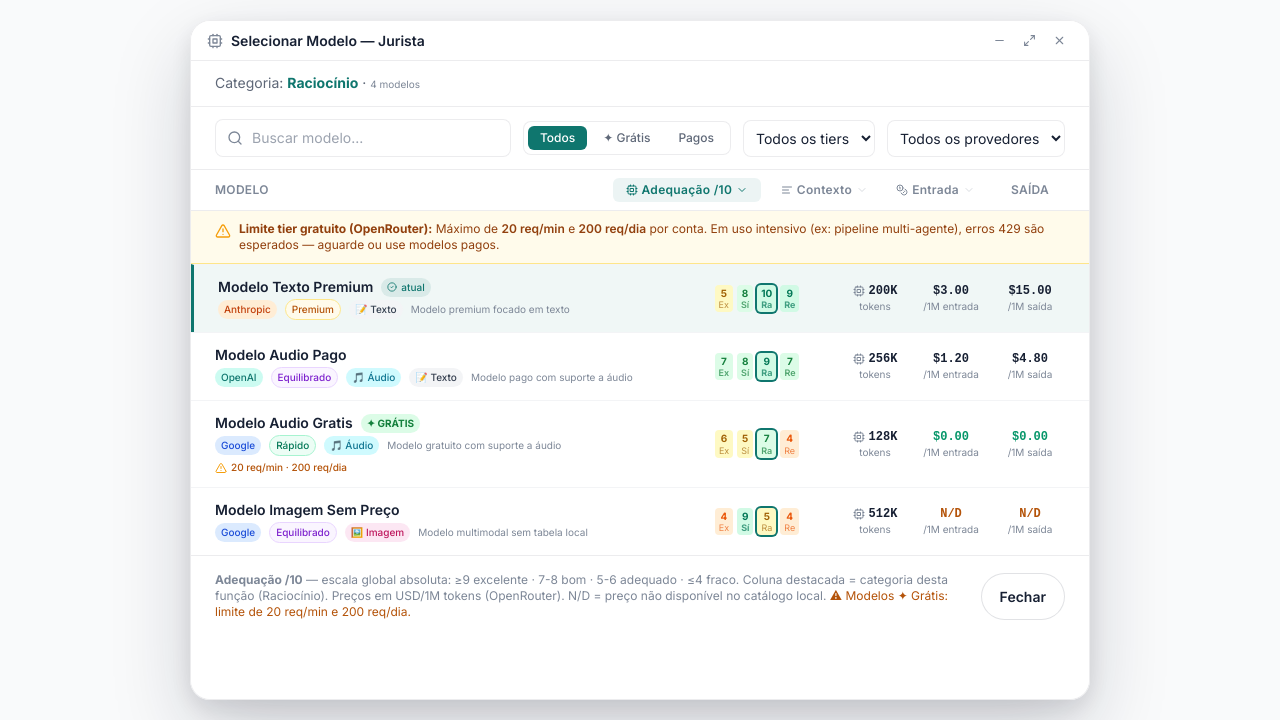
Test case: ModelSelectorModal › supports provider filtering and empty search states
Select "Anthropic" in the 2nd dropdown at (976,138), box left=887, top=120, right=1065, bottom=156
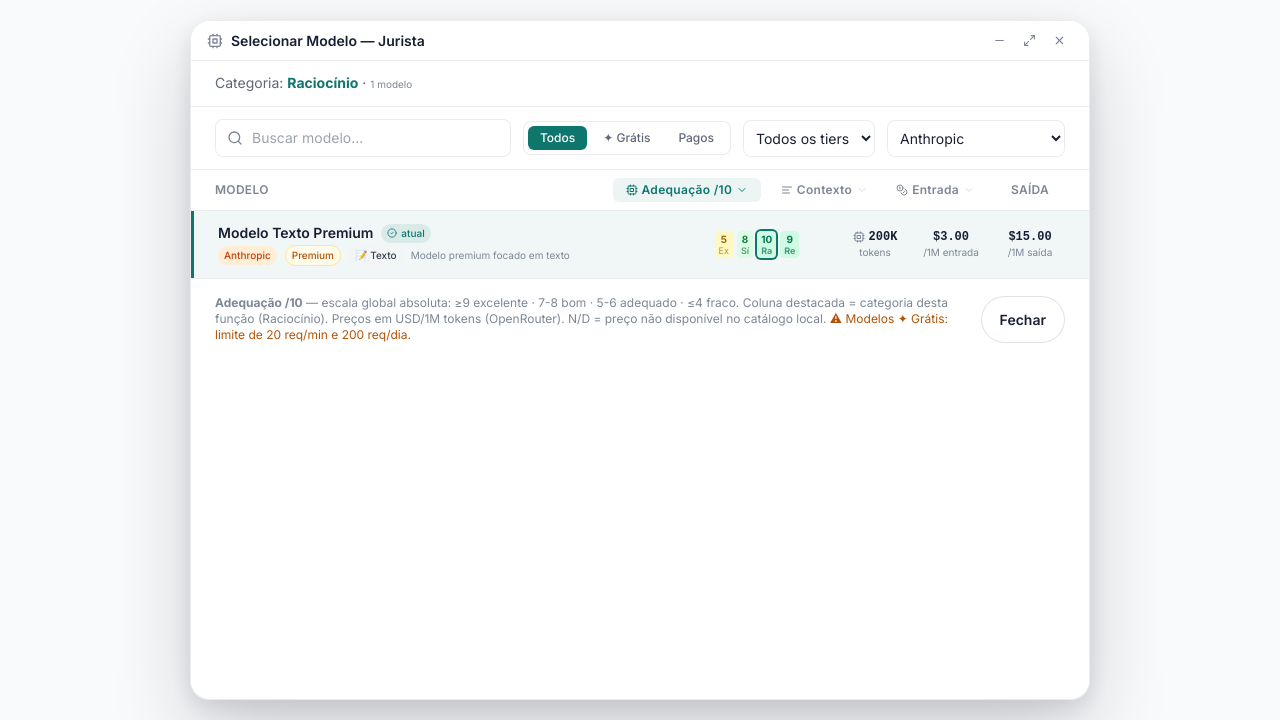
Expected: the text "Modelo Texto Premium" is shown, left=218, top=223, right=373, bottom=243
Expected: the button "Modelo Audio Pago" is gone
Type "inexistente" into the field with placeholder "Buscar modelo...".
click(363, 138); type("inexistente")  # box left=215, top=119, right=511, bottom=157
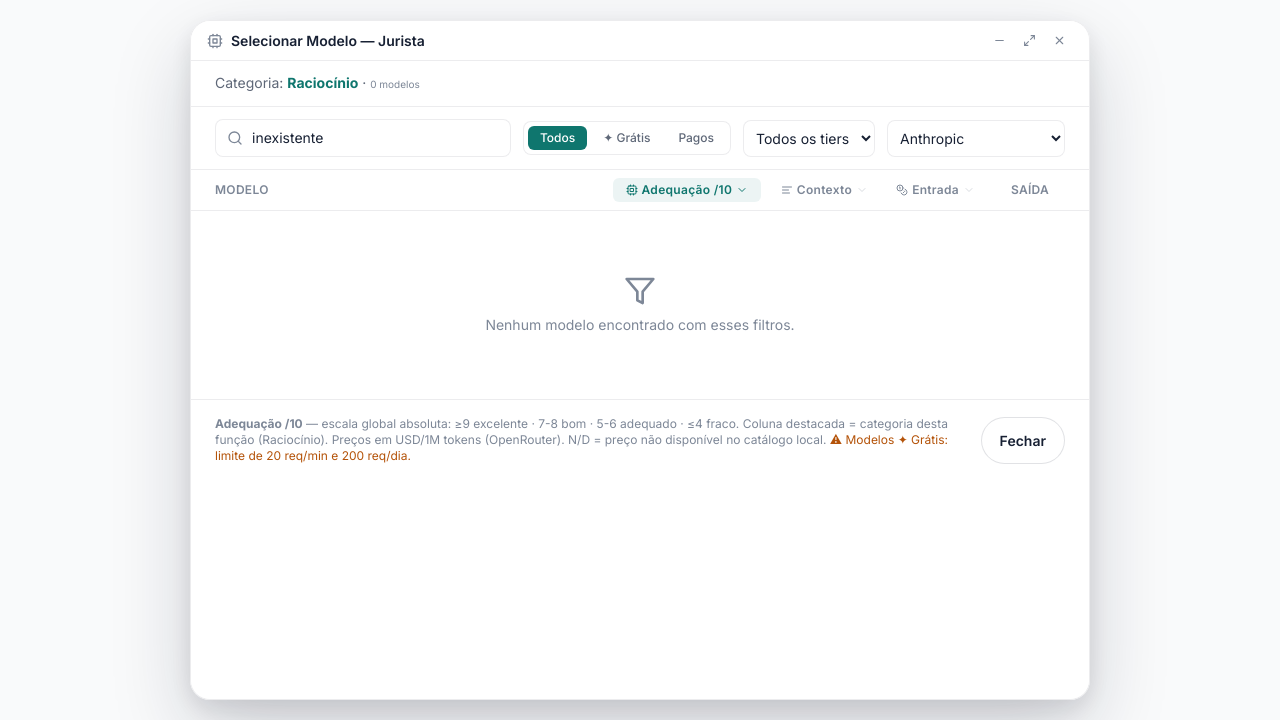
Expected: the text "Nenhum modelo encontrado com esses filtros." is shown, left=485, top=315, right=795, bottom=335
